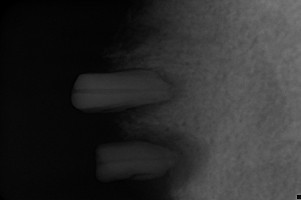Dental Caries: (117, 126, 209, 190), (109, 66, 184, 123)
